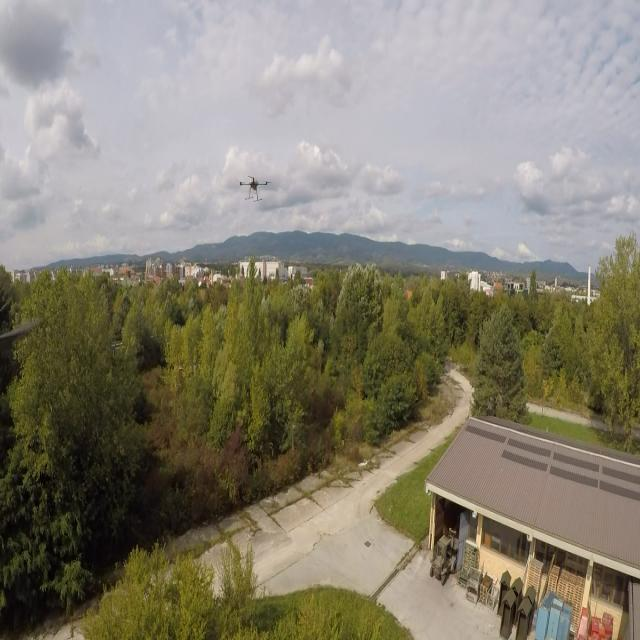UAV: (235, 172, 273, 204)
